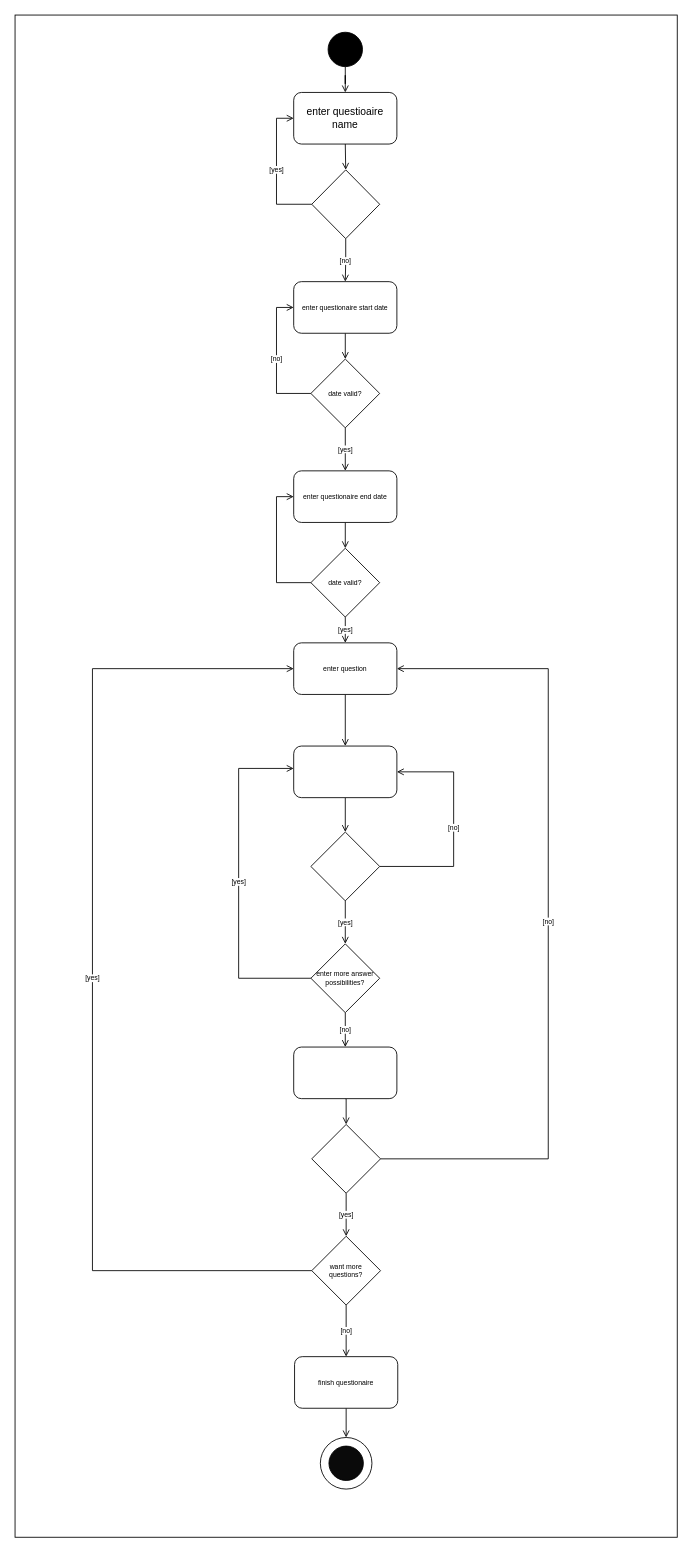
The diagram is 692 pixels wide and 1552 high, and some of its shapes have lost their labels. The centre of each missing label's shape, as x and y in pixels:
"already 5 questions?" goes at pixel 346 1158.
"already more than two answers?" goes at pixel 345 866.
"enter answer possibility" goes at pixel 345 771.
"finish question" goes at pixel 345 1072.
"questionaire name already in use?" goes at pixel 345 204.
